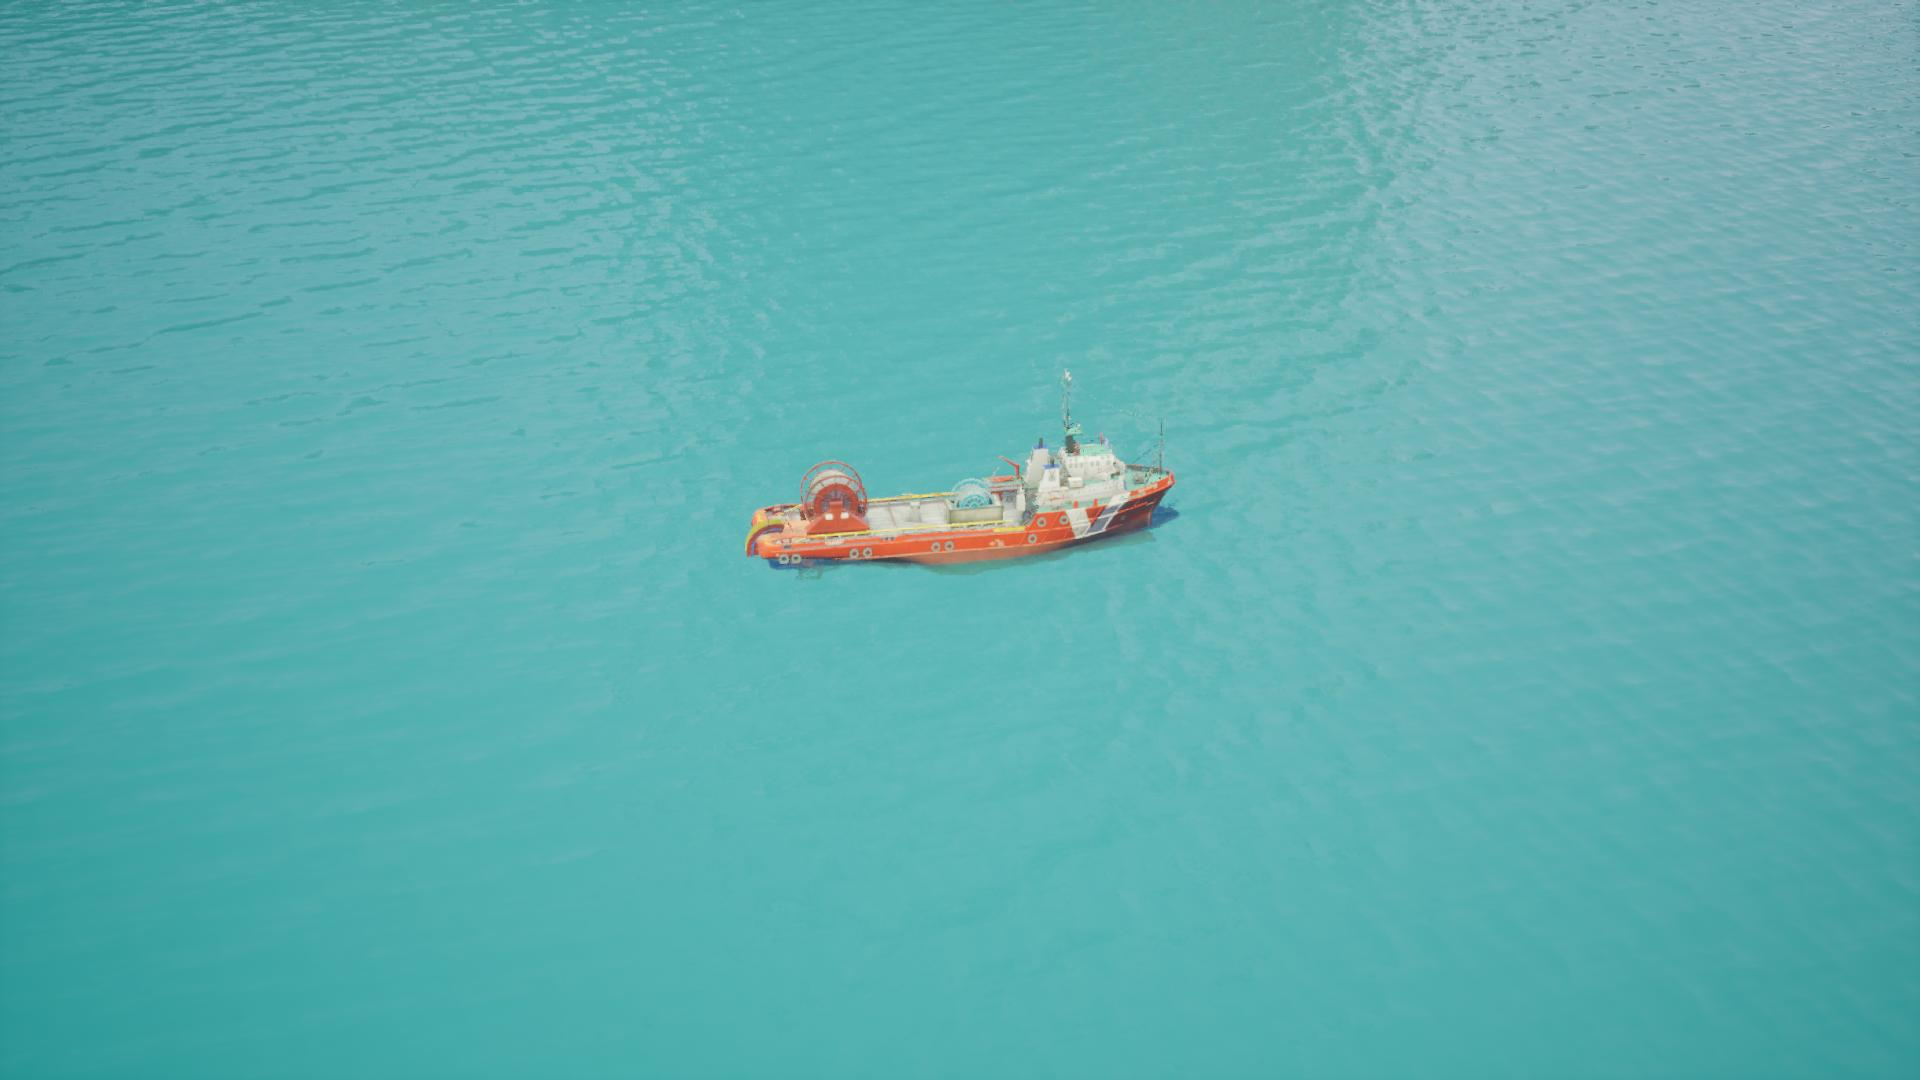Tug Boat: (738, 368, 1180, 578)
